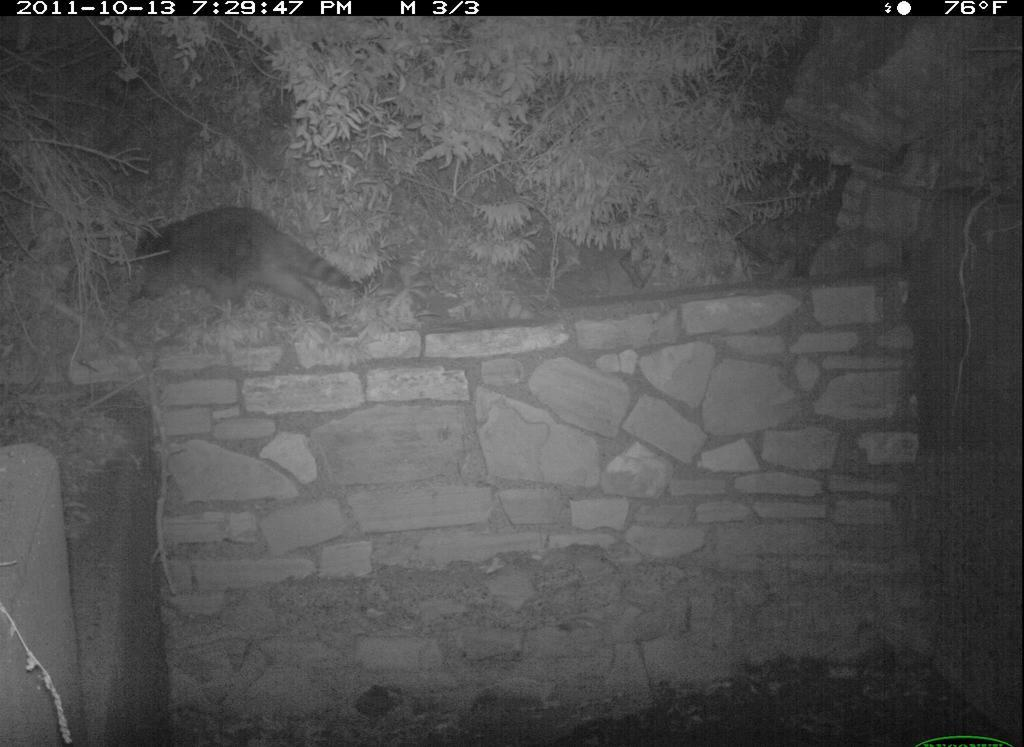raccoon: (100, 208, 365, 342)
